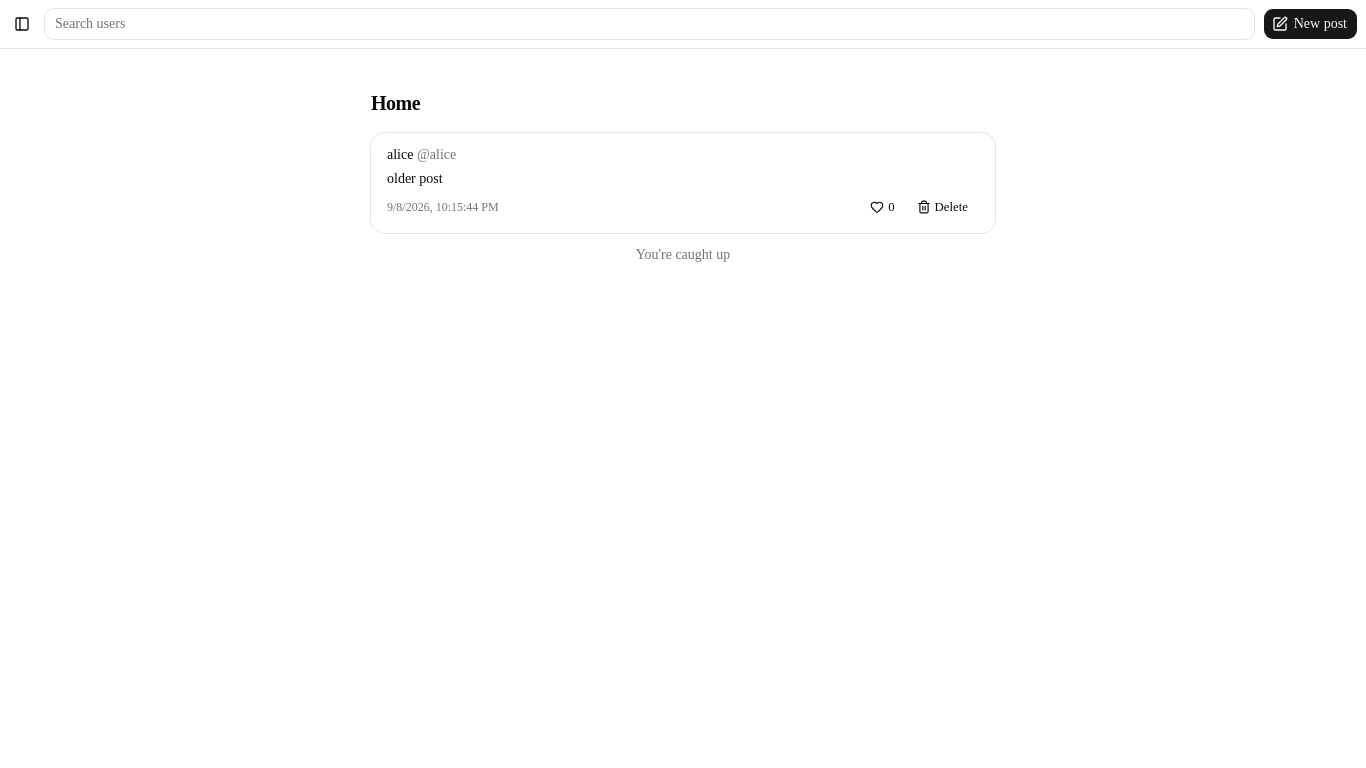
Scenario: global composer dialog (Fix-2) › dialog post closes, toasts, and appears in the feed
expect the text "older post" is shown: met, box 387,171 -> 443,186
Click the button "New post" at (1310, 24), box 1263,8 -> 1358,40
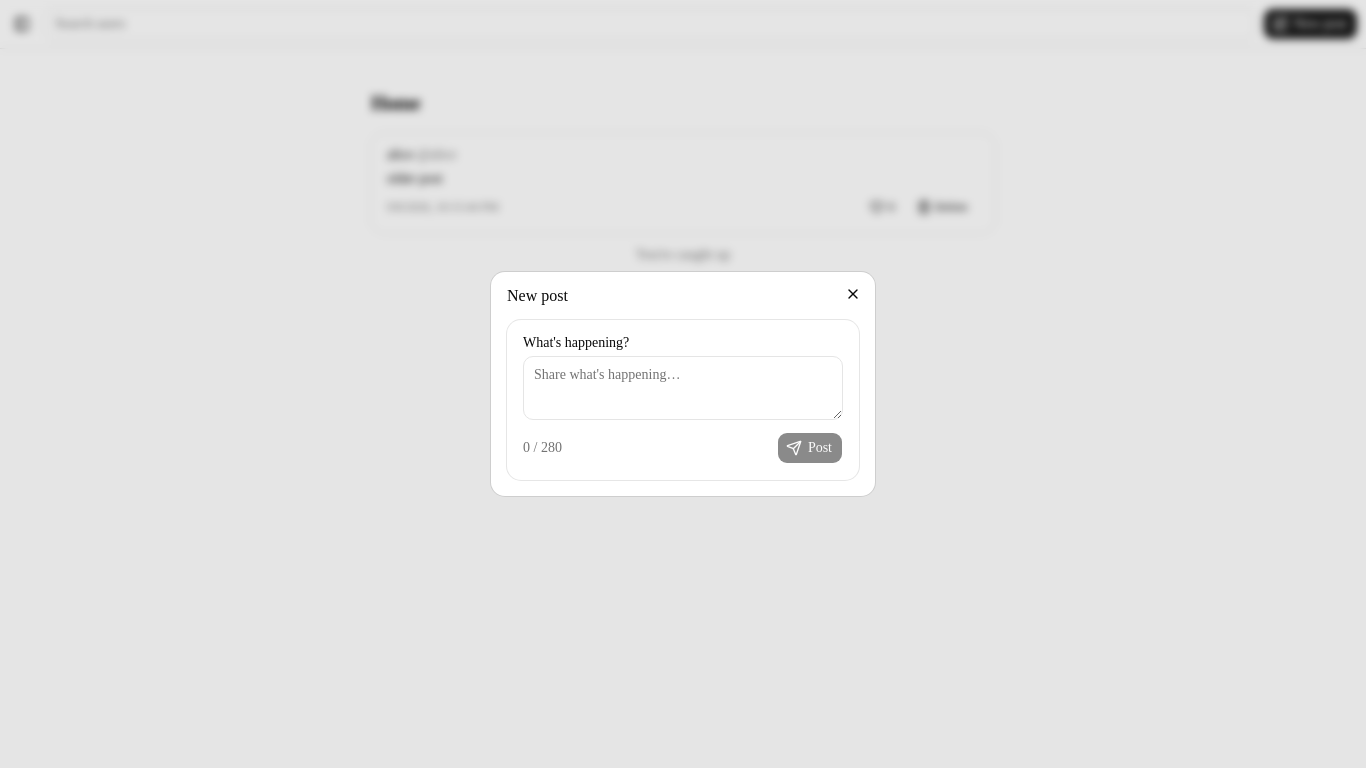
Type "dialog fresh post" into the text box labelled "What's happening?" at (683, 388), box 523,356 -> 843,420
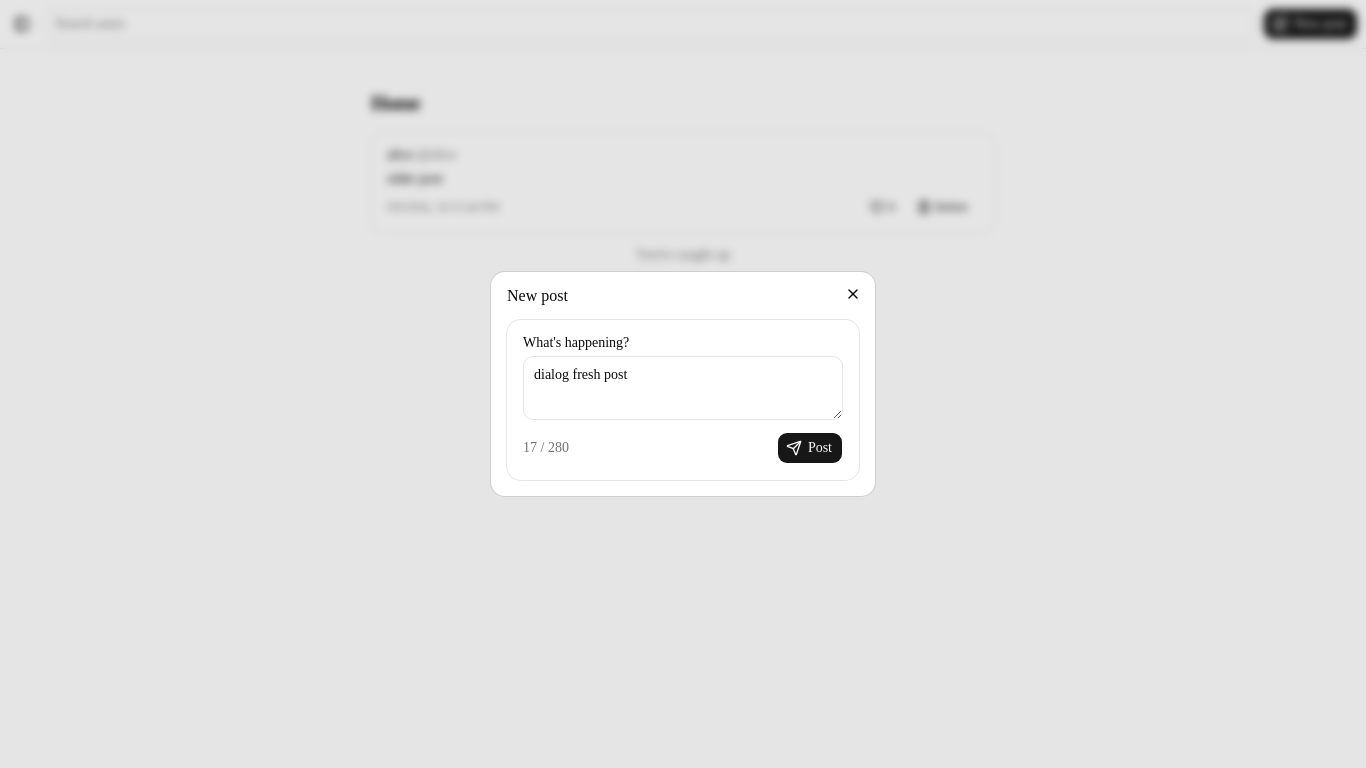
Click the button "Post" at (810, 448), box 777,432 -> 843,464
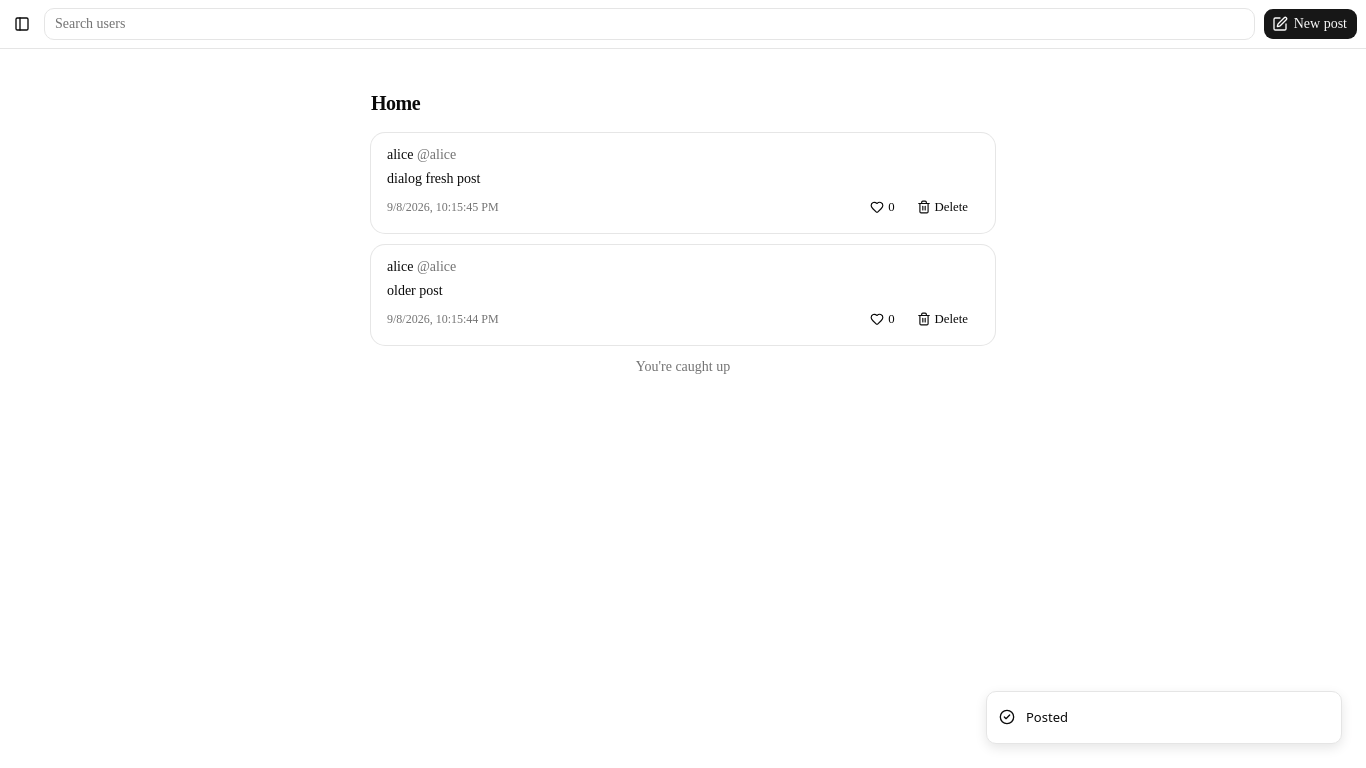
expect the dialog is gone: met
expect the text "dialog fresh post" is shown: met, box 387,171 -> 480,186
expect the text "Posted" is shown: met, box 1026,708 -> 1068,727
